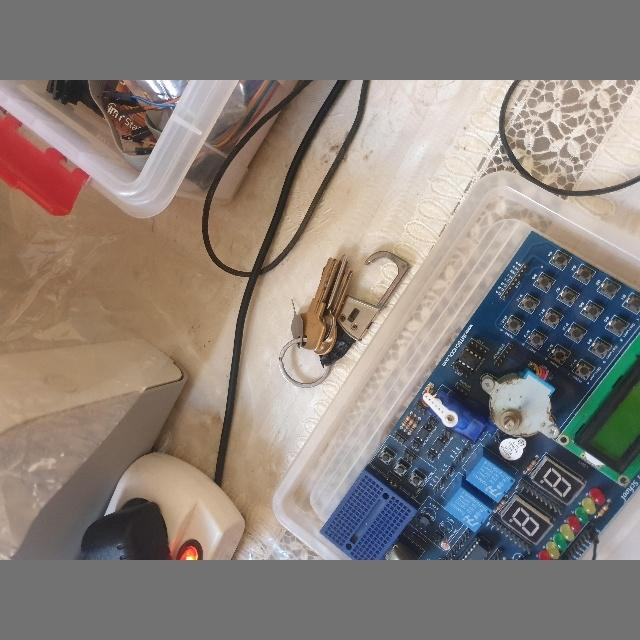Keys: (278, 250, 410, 388)
